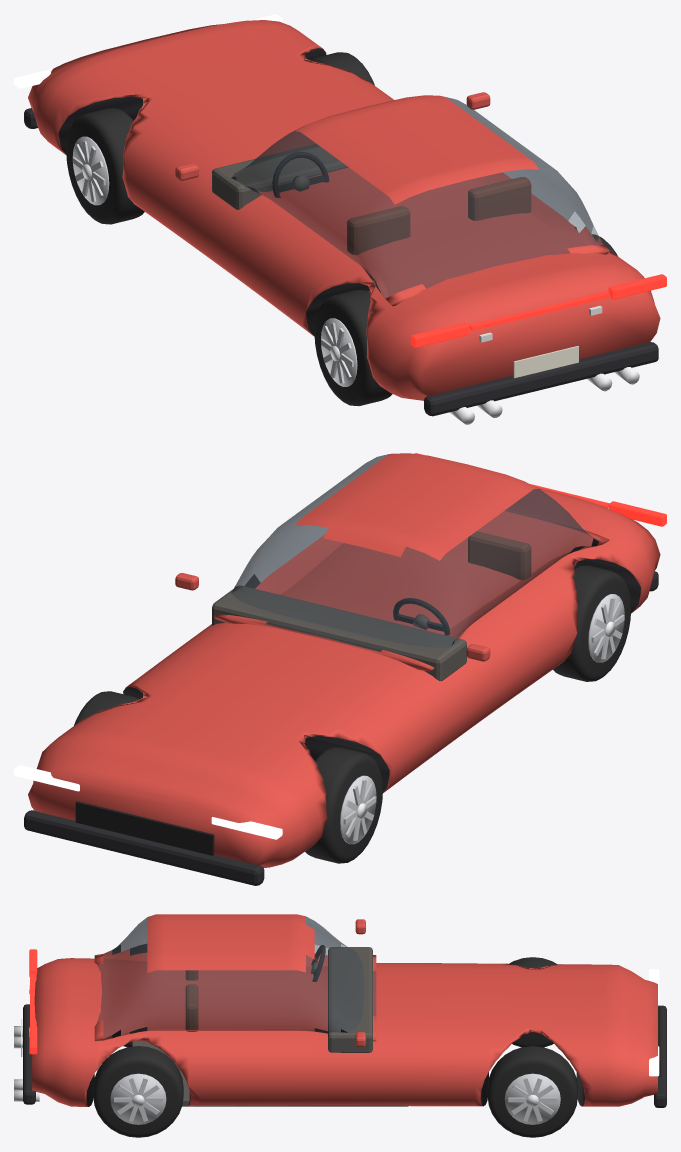
3 renders of one model, top to bottom at view 1: azimuth 30°, elevation 25°; view 2: azimuth 150°, elevation 25°; view 3: azimuth 270°, elevation 25°, orthographic. The views are drawn at different scales.
Parts seen in each view (by area): view 1: Body.004, Glass.004, Interior.004, Wheel_FL.004, Wheel_RL.004, Lights_Tail.004, SteeringWheel.004, Wheel_FR.004; view 2: Body.004, Glass.004, Interior.004, Wheel_FL.004, Wheel_RL.004, Lights_Head.004, Lights_Tail.004, SteeringWheel.004, Wheel_FR.004; view 3: Body.004, Glass.004, Wheel_FR.004, Wheel_RR.004, Interior.004, Wheel_FL.004, Lights_Tail.004, Lights_Head.004.
Part boxes in pixels (box(x1,y1,x2,y2)): Body.004: box(24, 20, 660, 424); Glass.004: box(231, 97, 603, 298); Interior.004: box(212, 144, 531, 292); Wheel_FL.004: box(66, 108, 144, 224); Wheel_RL.004: box(314, 289, 392, 406); Lights_Tail.004: box(411, 274, 666, 347); SteeringWheel.004: box(272, 152, 329, 197); Wheel_FR.004: box(310, 52, 374, 85); Body.004: box(24, 453, 660, 885); Glass.004: box(231, 454, 603, 651); Interior.004: box(212, 531, 531, 681); Wheel_FL.004: box(305, 747, 382, 863); Wheel_RL.004: box(553, 565, 631, 681); Lights_Head.004: box(14, 765, 282, 839); Lights_Tail.004: box(414, 453, 666, 526); SteeringWheel.004: box(393, 598, 449, 635); Wheel_FR.004: box(74, 691, 139, 725); Body.004: box(14, 914, 666, 1107); Glass.004: box(97, 916, 376, 1038); Wheel_FR.004: box(487, 1046, 577, 1137); Wheel_RR.004: box(93, 1046, 183, 1137); Interior.004: box(132, 947, 408, 1106); Wheel_FL.004: box(509, 957, 557, 1047); Lights_Tail.004: box(29, 949, 37, 1054); Lights_Head.004: box(649, 969, 659, 1076).
Bounding box in the file's own units: 2.21 × 1.3 × 5.06.
